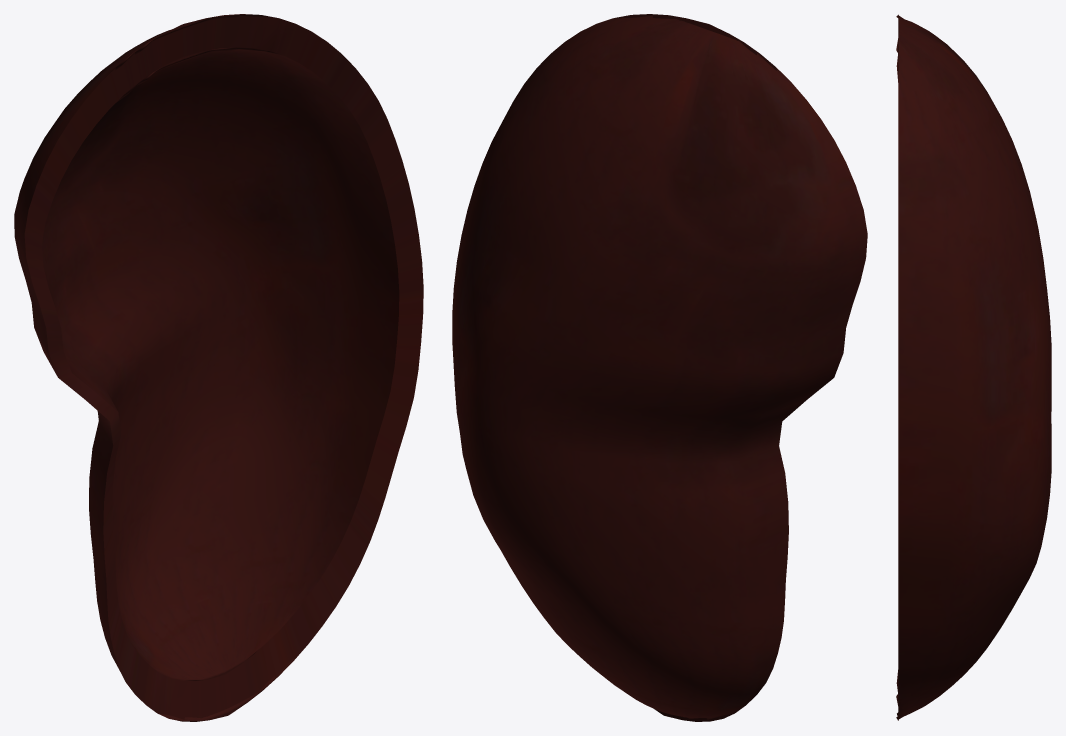
Rendered from part1textuer_test.obj.
3 renders of one model, left to right at view 1: azimuth 30°, elevation 25°; view 2: azimuth 150°, elevation 25°; view 3: azimuth 270°, elevation 25°, orthographic. The views are drawn at different scales.
Visible parts, largest first — view 1: pasted__polySurface7 pasted__pSphere34 group1; view 2: pasted__polySurface7 pasted__pSphere34 group1; view 3: pasted__polySurface7 pasted__pSphere34 group1.
Boxes of the visible parts, x1=… form: pasted__polySurface7 pasted__pSphere34 group1: x1=14, y1=14, x2=423, y2=721; pasted__polySurface7 pasted__pSphere34 group1: x1=452, y1=14, x2=867, y2=721; pasted__polySurface7 pasted__pSphere34 group1: x1=896, y1=14, x2=1051, y2=720.
Size of the model in its own units: 3.69 by 6.22 by 1.29.
Materials: 1 (1 with a texture image).
